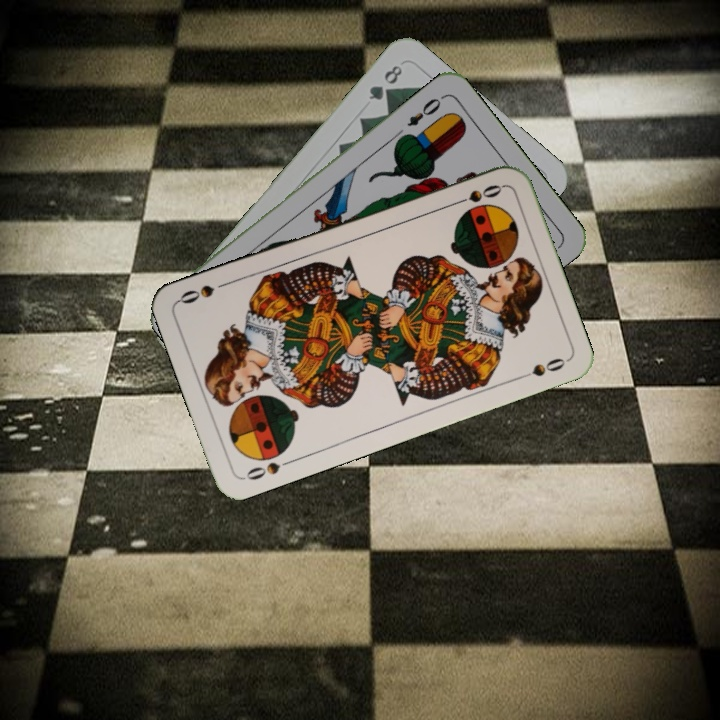EO: (403, 94, 444, 129)
G8: (364, 61, 405, 103)
SO: (448, 180, 506, 209), (239, 455, 296, 483)
